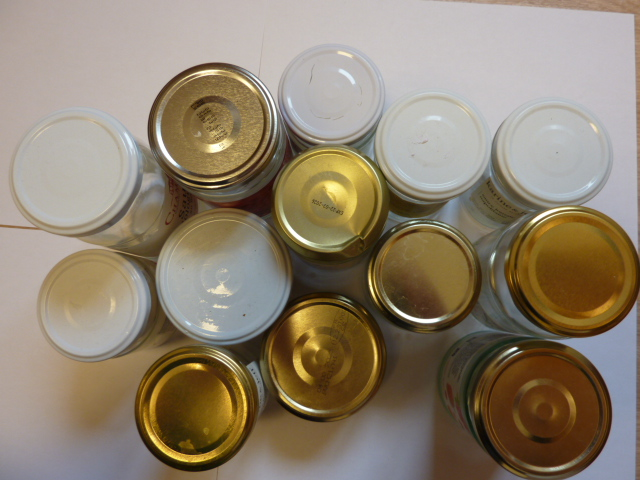intact: (5, 107, 142, 236), (493, 96, 613, 206)
